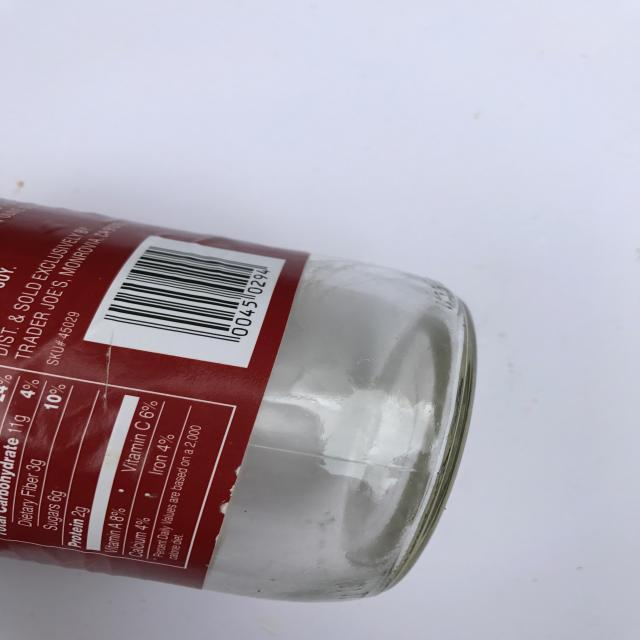glass: (1, 195, 478, 601)
